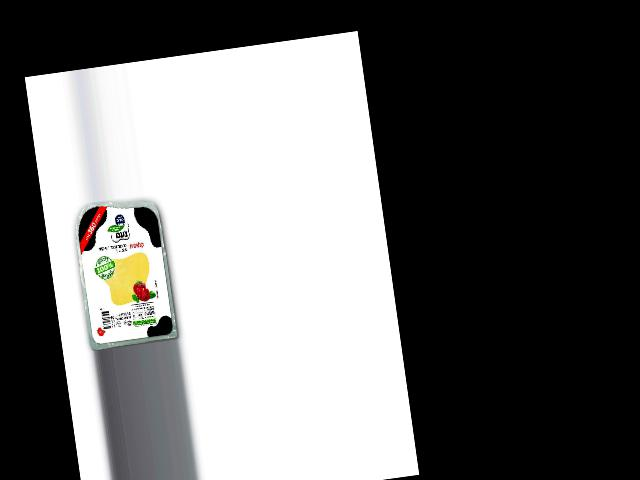cheese: (70, 193, 178, 350)
